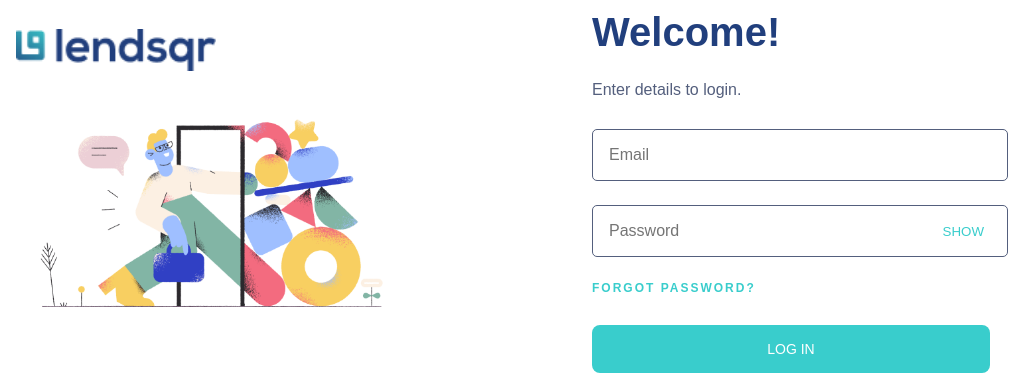
it: Login component › should toggle password visibility
Click the button "SHOW" at (963, 231), box [936, 223, 990, 240]
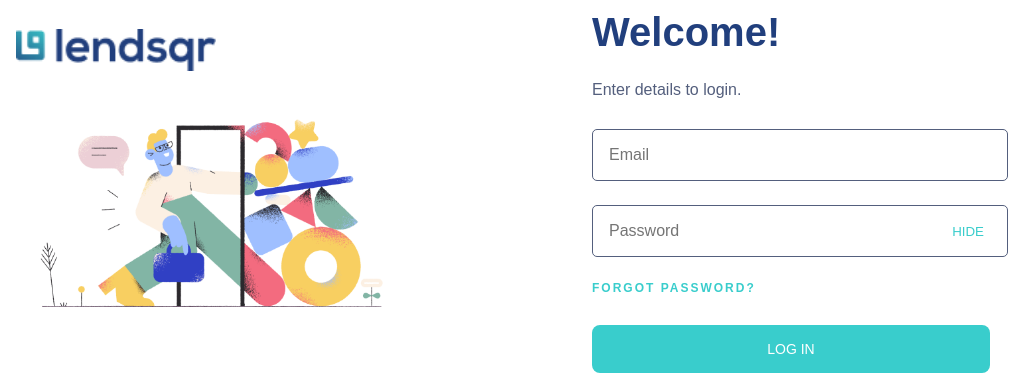
Expected: the button "SHOW" reads "HIDE"
Click the button "SHOW" at (968, 231), box [946, 223, 990, 240]
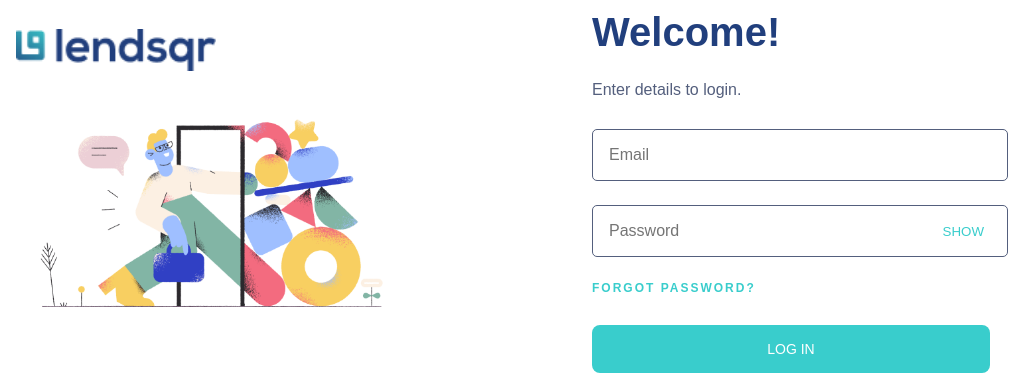
Expected: the button "SHOW" is shown, [936, 223, 990, 240]
